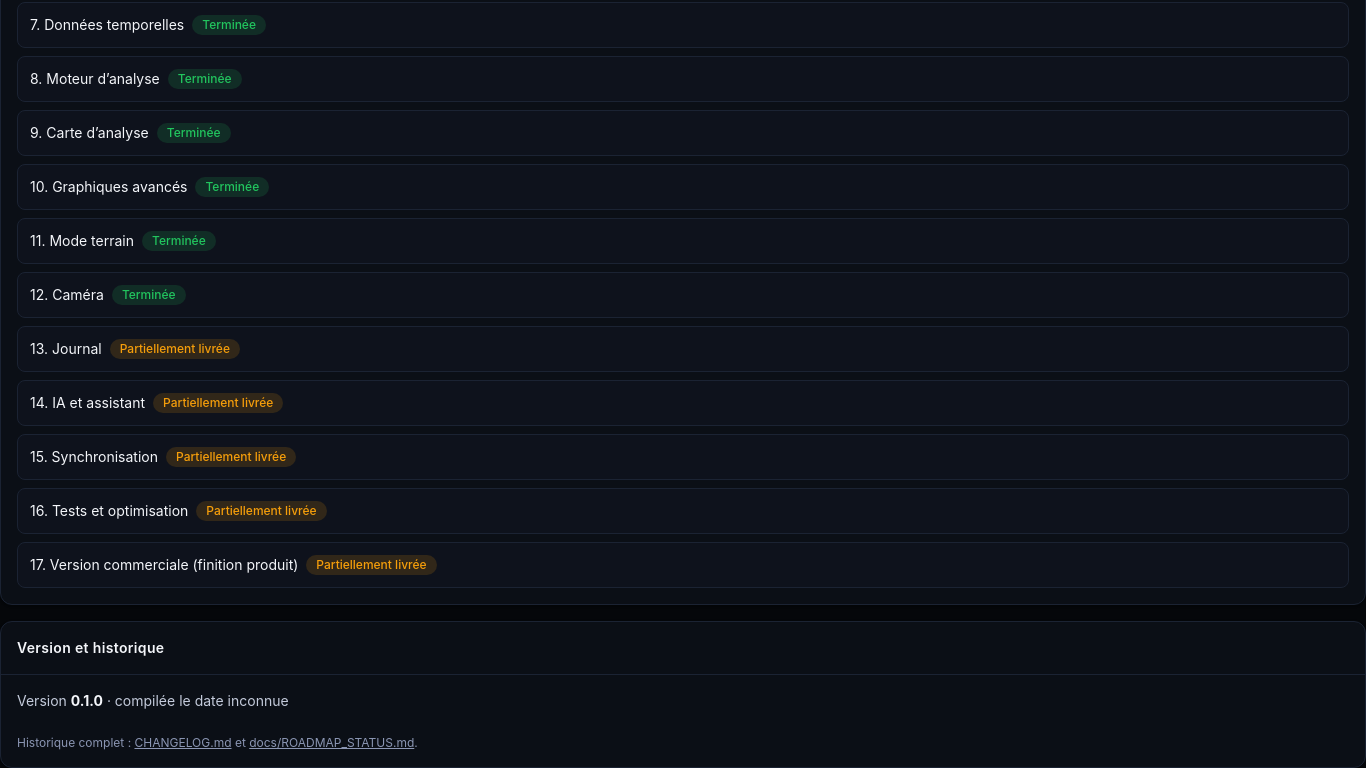
Test case: ProjectPage › keeps the generative AI status honest and explains it
(page scrolled)
Click the text "14. IA et assistant" at (88, 403), box [30,393,145,413]
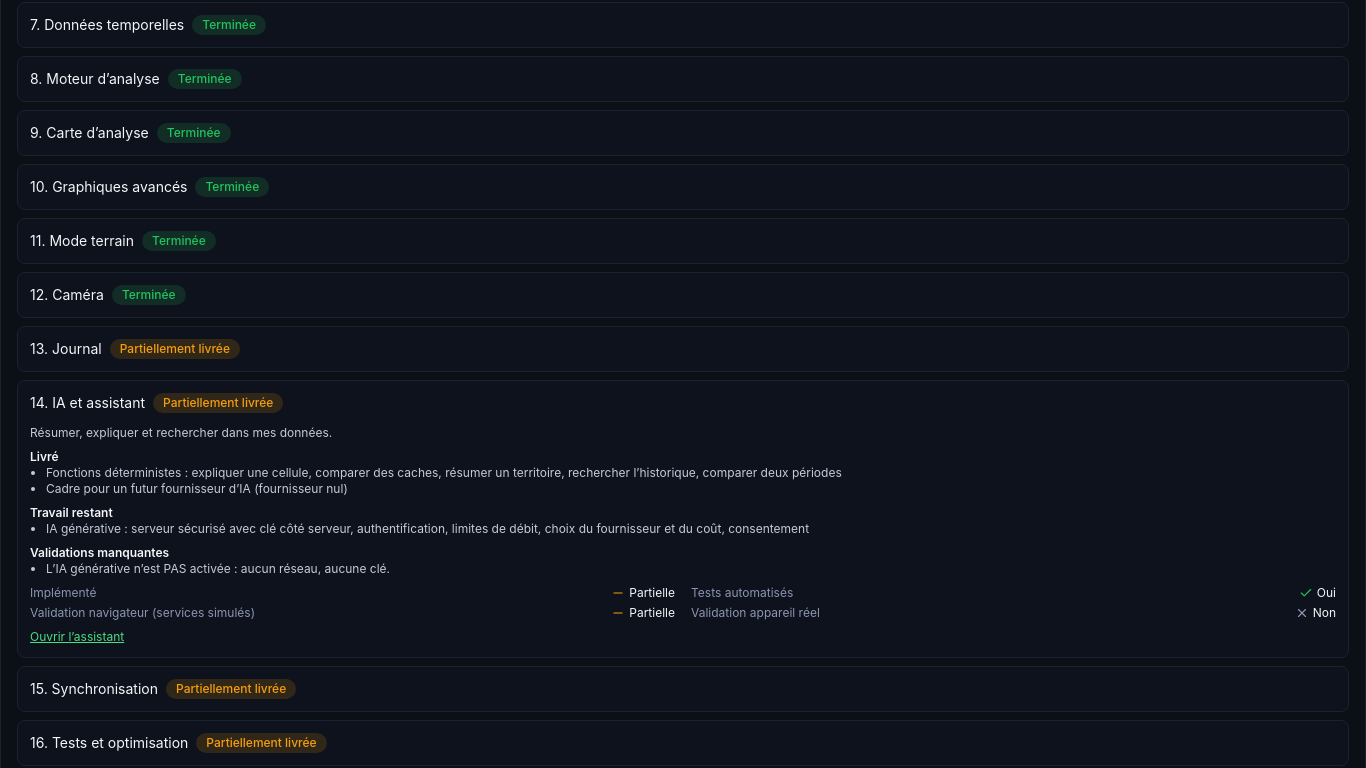
expect the list item "L’IA générative n’est PAS activée" is shown: met, box [46,561,390,576]
